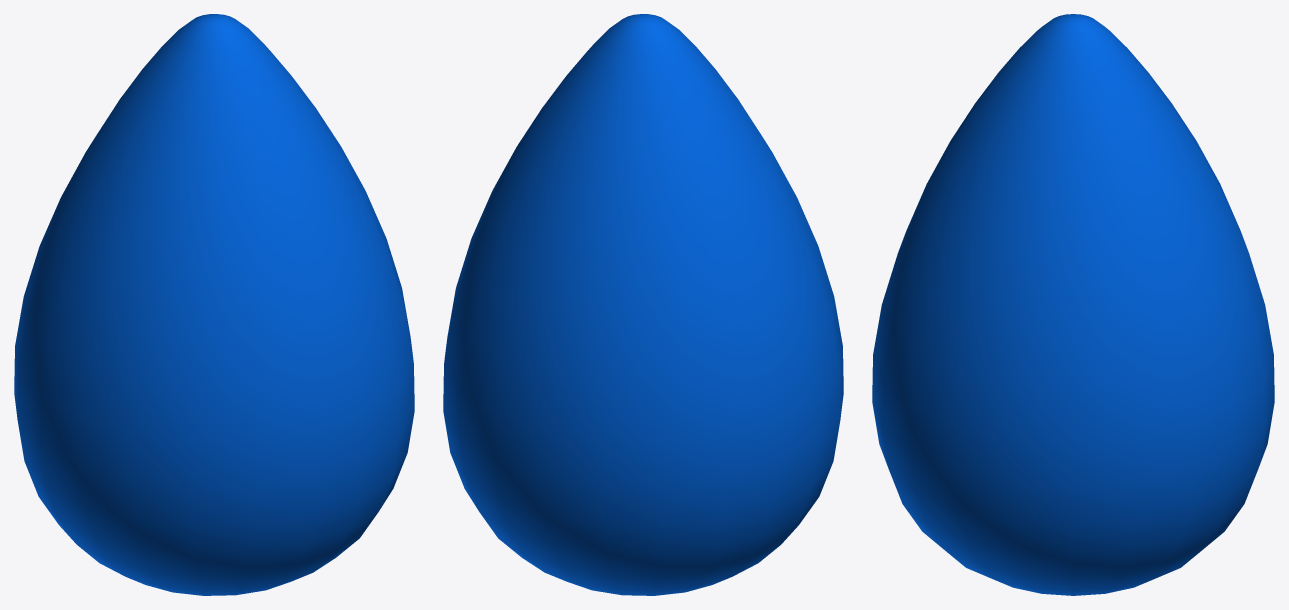
File: Tear.fbx
The picture shows the model from 3 angles, left to right: view 1: azimuth 30°, elevation 25°; view 2: azimuth 150°, elevation 25°; view 3: azimuth 270°, elevation 25°; orthographic projection.
Parts seen in each view (by area): view 1: pSphere1; view 2: pSphere1; view 3: pSphere1.
Part boxes in pixels (left/top/right/bottom): pSphere1: left=14, top=14, right=414, bottom=595; pSphere1: left=443, top=14, right=843, bottom=595; pSphere1: left=872, top=14, right=1274, bottom=595.
Size of the model in its own units: 4.67 by 7.12 by 4.67.
